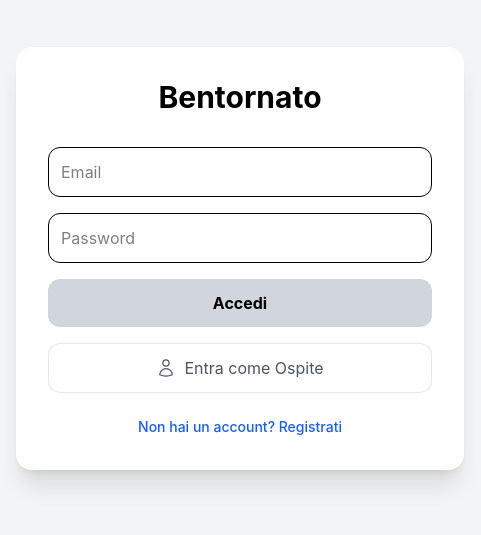
Test case: AuthScreen › mostra errore dal server quando la risposta non è ok
Step 1. Type "test@example.com" into the field with placeholder "Email" → [240, 172], box x1=48 y1=146 x2=432 y2=196
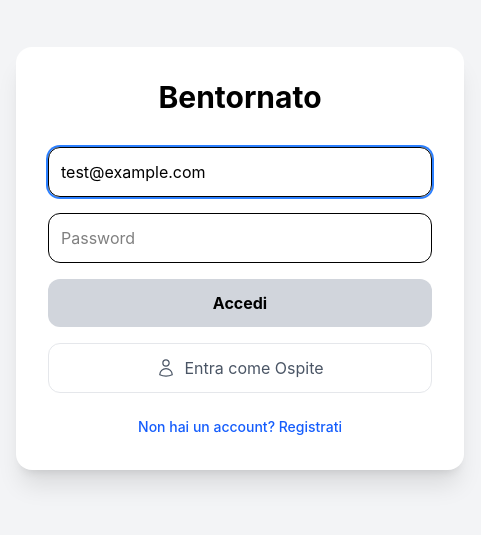
Step 2. Type "wrong" into the password field with placeholder "Password" → [240, 238], box x1=48 y1=212 x2=432 y2=262
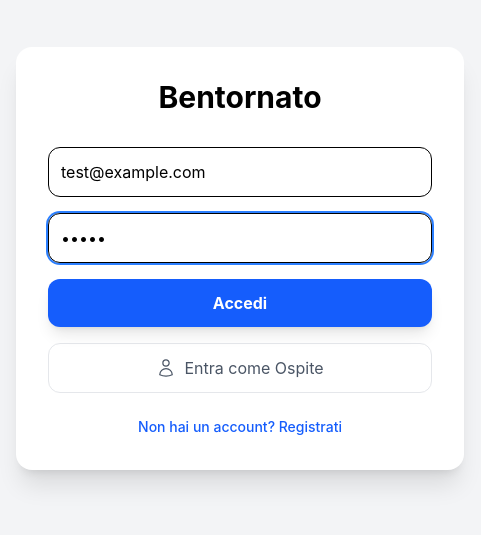
Step 3. Click the button "Accedi" → [240, 302], box x1=48 y1=278 x2=432 y2=326
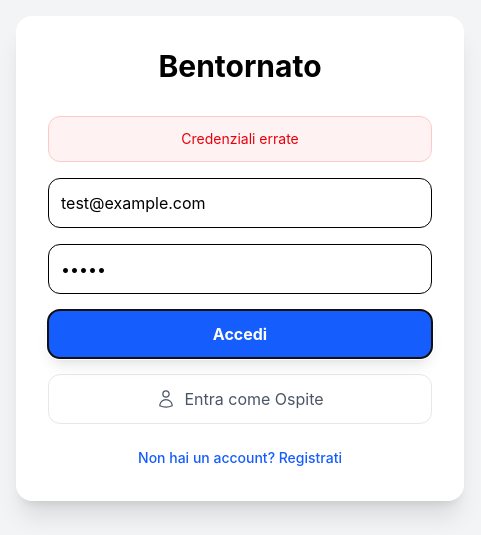
Expected: the text "Credenziali errate" is shown, x1=48 y1=116 x2=432 y2=162
